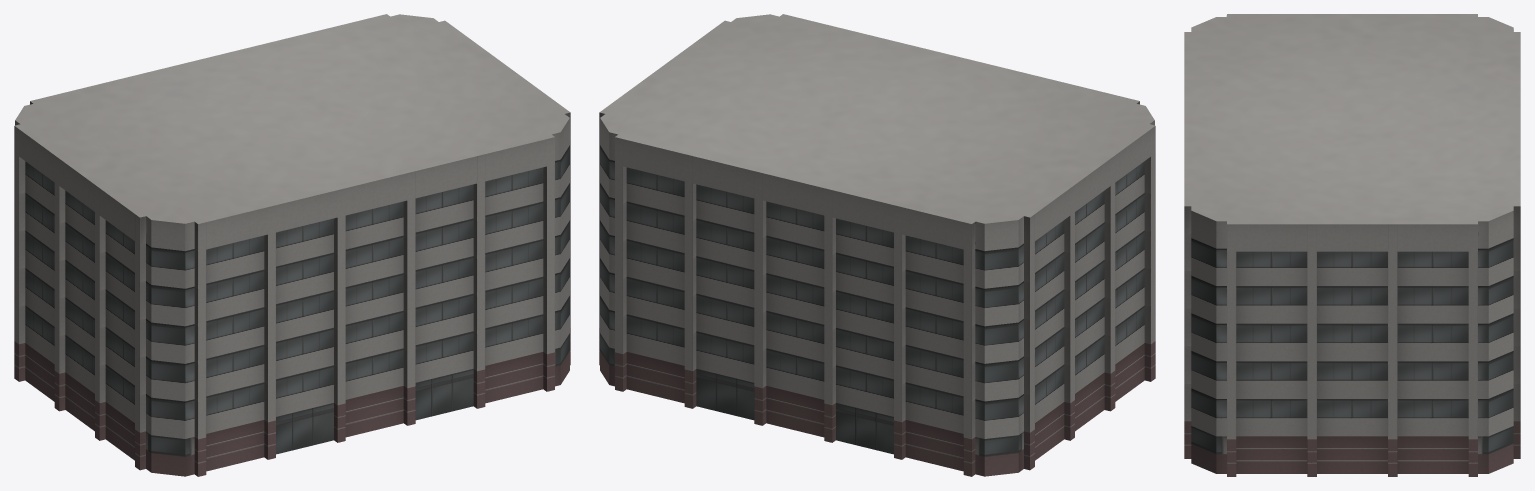
File: BgMD_goto_Building_01_01.fbx
3 renders of one model, left to right at view 1: azimuth 30°, elevation 25°; view 2: azimuth 150°, elevation 25°; view 3: azimuth 270°, elevation 25°, orthographic.
Parts seen in each view (by area): view 1: BgMD_goto_Building_01_01; view 2: BgMD_goto_Building_01_01; view 3: BgMD_goto_Building_01_01.
Part boxes in pixels (left/top/right/bottom): BgMD_goto_Building_01_01: left=14, top=14, right=570, bottom=476; BgMD_goto_Building_01_01: left=599, top=14, right=1155, bottom=476; BgMD_goto_Building_01_01: left=1184, top=14, right=1520, bottom=476.
Bounding box in the file's own units: 4200 × 2355 × 2840.
1 material, 1 textured.
